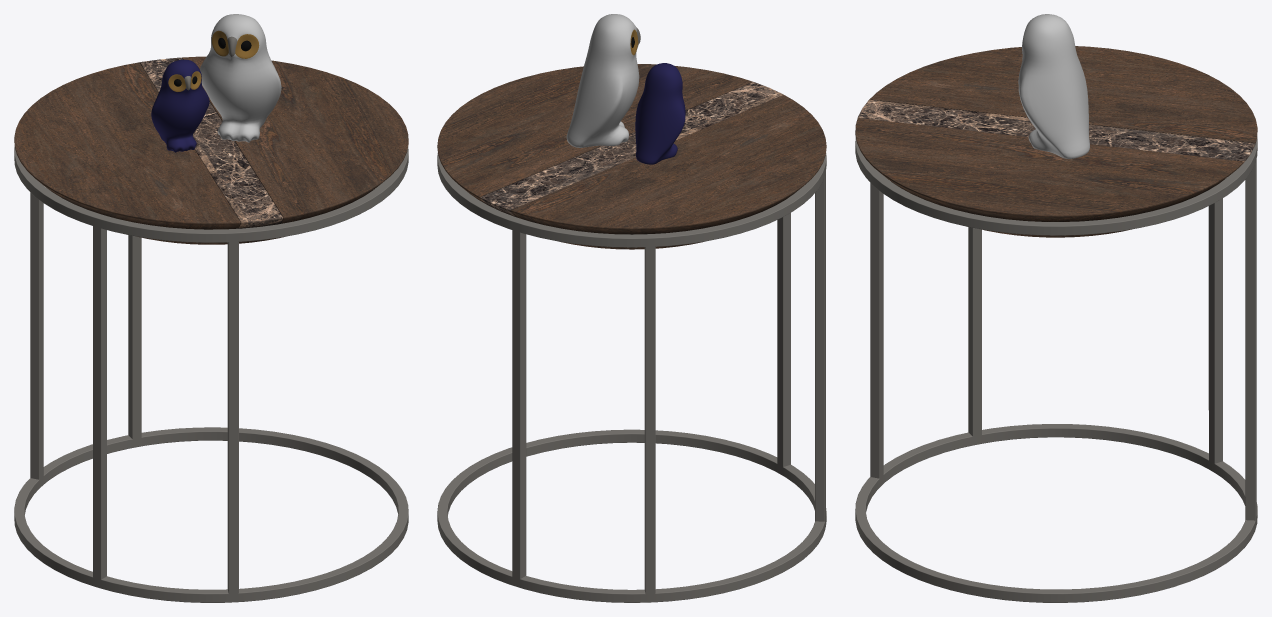
The picture shows the model from 3 angles, left to right: view 1: azimuth 30°, elevation 25°; view 2: azimuth 150°, elevation 25°; view 3: azimuth 270°, elevation 25°; orthographic projection. The views are drawn at different scales.
Parts seen in each view (by area): view 1: Giotto-A.002, Owl_1_white, Owl_1_white.001; view 2: Giotto-A.002, Owl_1_white, Owl_1_white.001; view 3: Giotto-A.002, Owl_1_white.
Boxes of the visible parts, <box> form: Giotto-A.002: <box>14,56,408,602</box>; Owl_1_white: <box>200,14,281,142</box>; Owl_1_white.001: <box>151,59,209,152</box>; Giotto-A.002: <box>437,64,826,602</box>; Owl_1_white: <box>566,14,640,147</box>; Owl_1_white.001: <box>635,63,685,164</box>; Giotto-A.002: <box>855,46,1257,602</box>; Owl_1_white: <box>1018,14,1089,158</box>.
Size of the model in its own units: 0.771 by 1.08 by 0.771.
Materials: 7 (2 with a texture image).
